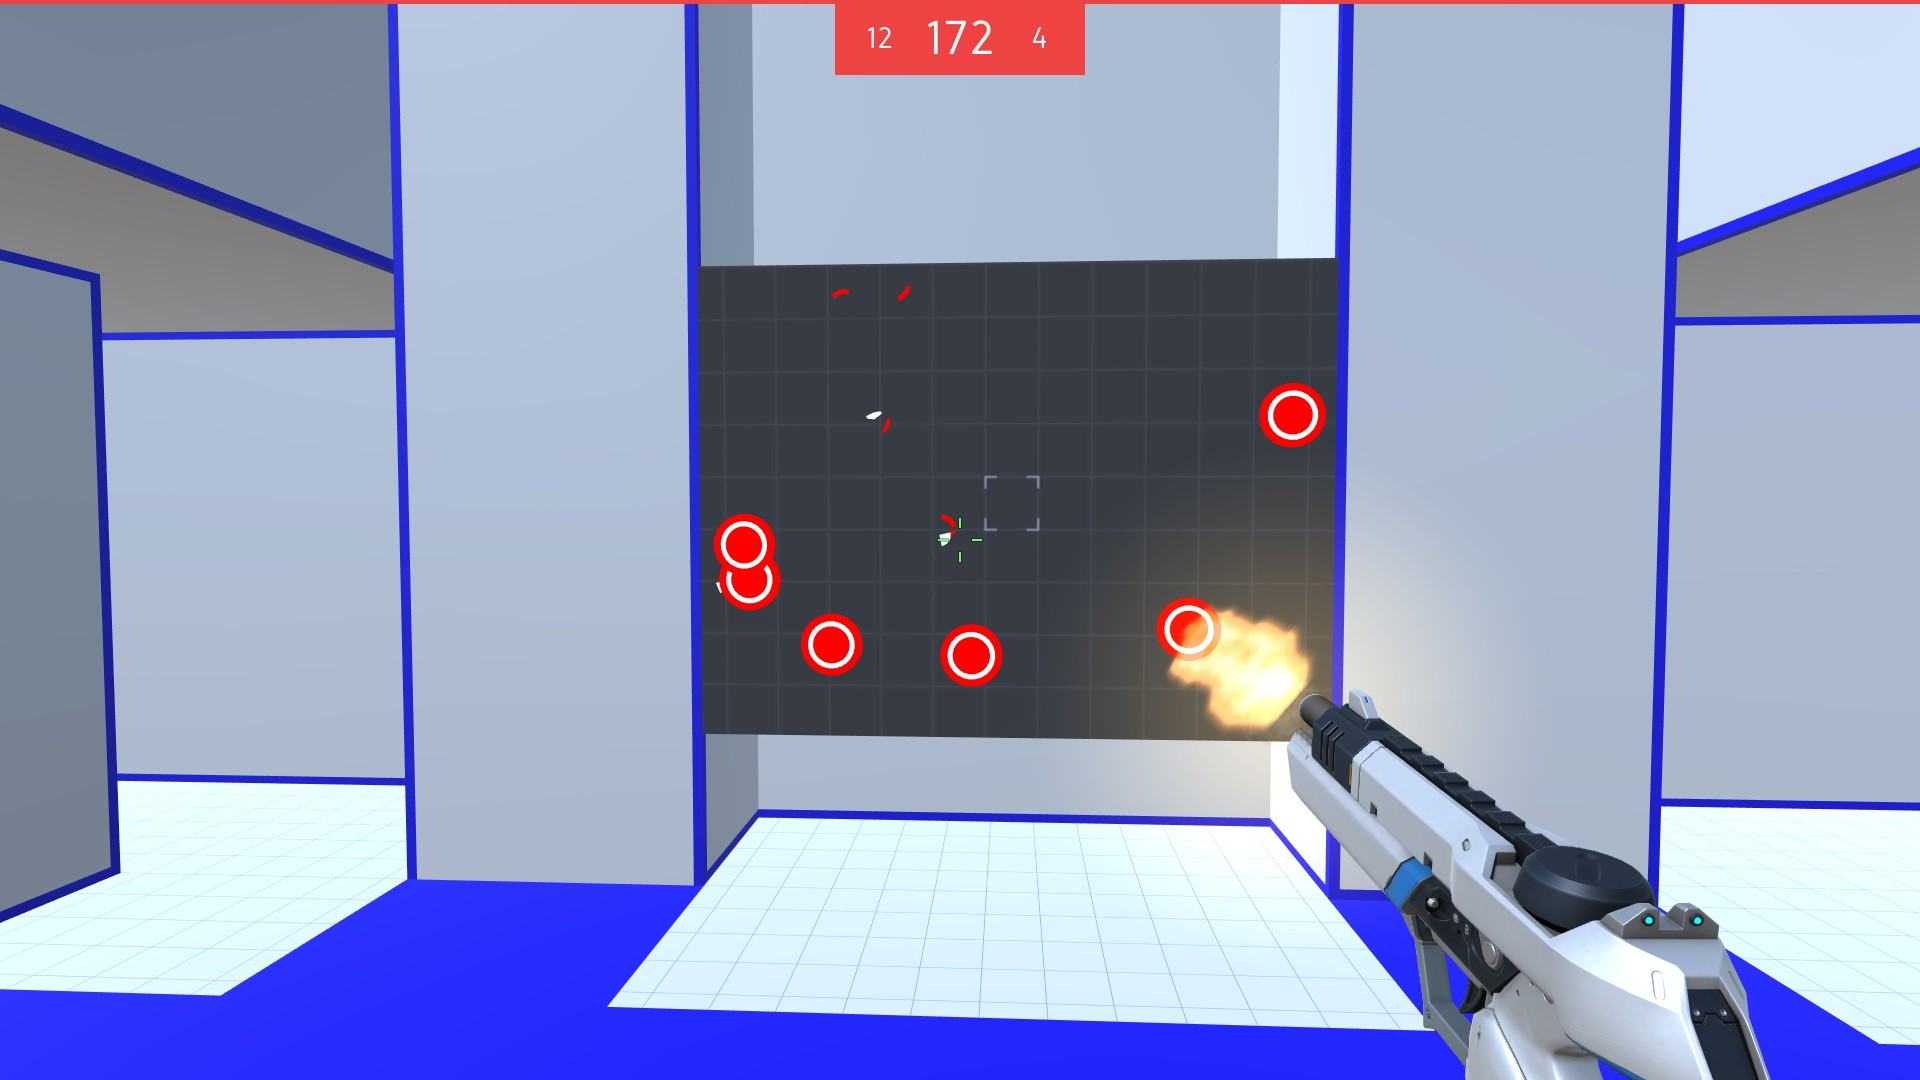target: (1251, 378, 1327, 452), (1154, 592, 1222, 662), (800, 611, 865, 679), (938, 618, 1001, 688), (708, 512, 778, 575), (713, 554, 785, 613)
